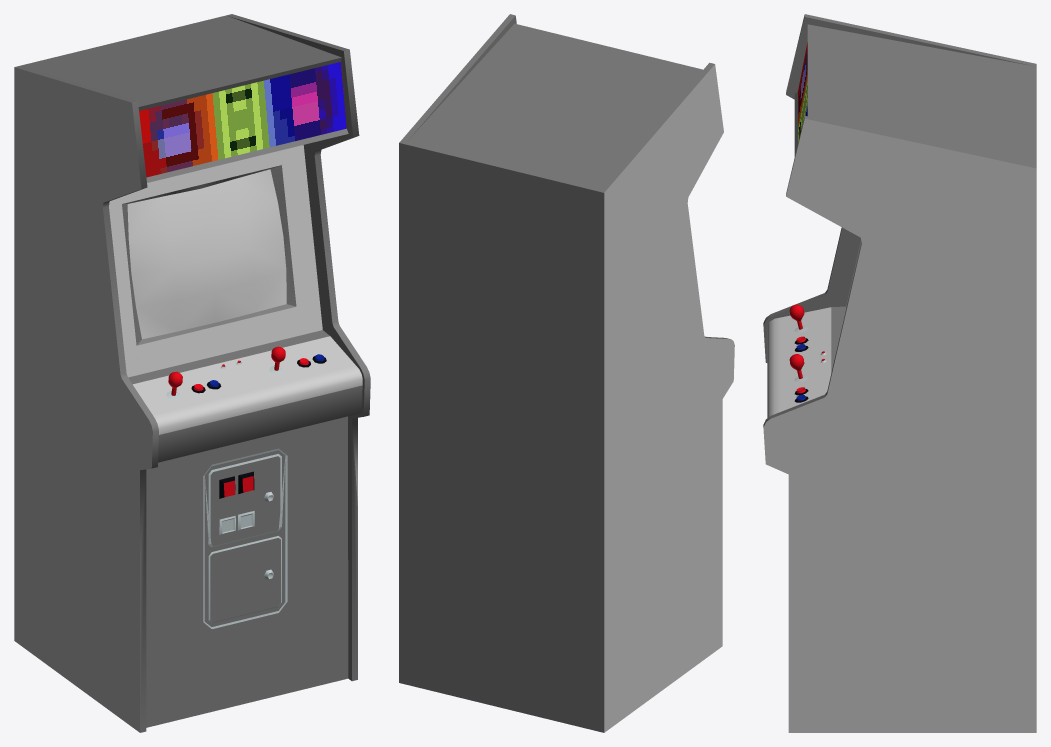
Rendered from magic-deniro-80-hor.fbx.
3 renders of one model, left to right at view 1: azimuth 30°, elevation 25°; view 2: azimuth 150°, elevation 25°; view 3: azimuth 270°, elevation 25°, orthographic. The views are drawn at different scales.
Parts seen in each view (by area): view 1: denirosmagicmagic, denirosmagicblack, denirosmagicmon, denirosmagicmarq, denirosmagiccol; view 2: denirosmagicblack, denirosmagicmagic; view 3: denirosmagicmagic, denirosmagicblack, denirosmagiccol, denirosmagicmarq.
Part boxes in pixels (x1,y1,x2,y2): denirosmagicmagic: [14, 67, 362, 732]; denirosmagicblack: [14, 14, 370, 732]; denirosmagicmon: [127, 169, 286, 339]; denirosmagicmarq: [139, 62, 346, 177]; denirosmagiccol: [166, 346, 326, 628]; denirosmagicblack: [399, 14, 730, 732]; denirosmagicmagic: [604, 64, 734, 732]; denirosmagicmagic: [763, 118, 1036, 732]; denirosmagicblack: [763, 14, 1036, 426]; denirosmagiccol: [789, 304, 826, 402]; denirosmagicmarq: [798, 42, 807, 142].
Bounding box in the file's own units: 0.6517 × 1.78 × 0.719.
